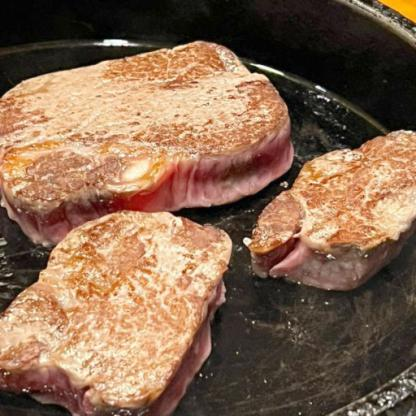Carne: (1, 47, 313, 205), (1, 210, 236, 416), (258, 118, 416, 292)
